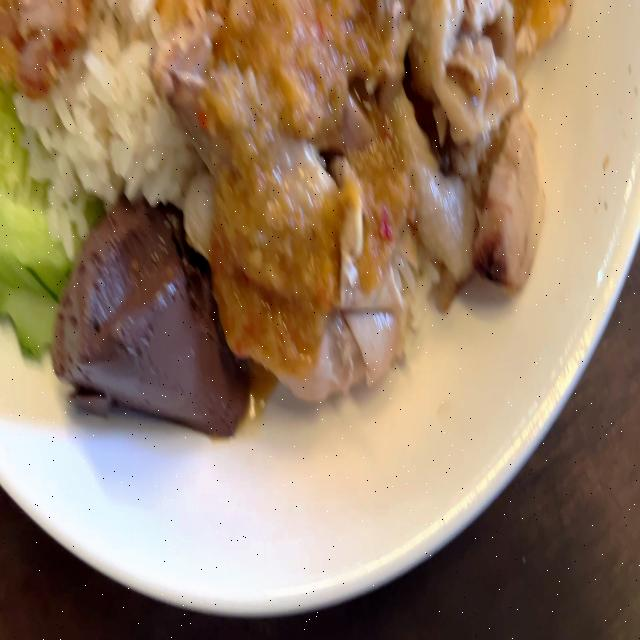boiled_chicken: (216, 4, 510, 355)
boiled_chicken_blood_jelly: (54, 199, 235, 432)
chicken_rice: (0, 0, 583, 433)
cucumber: (0, 74, 84, 352)
fried_chicken: (0, 0, 80, 90)
